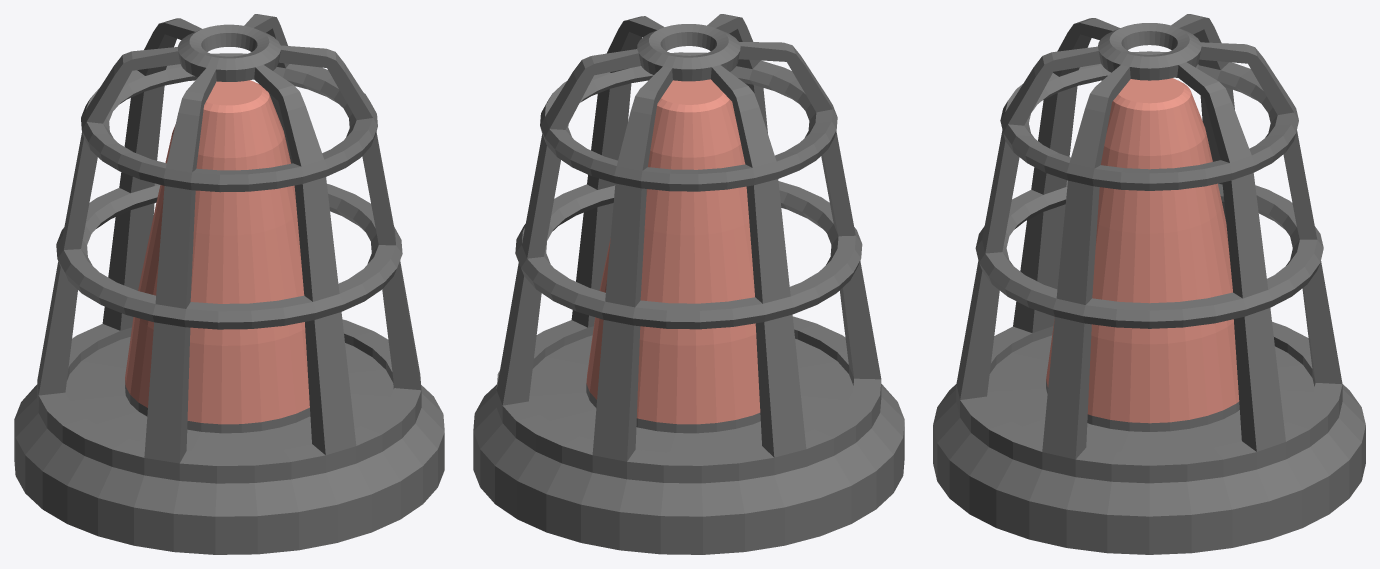
Rendered from EmergencyLightFix.fbx.
3 renders of one model, left to right at view 1: azimuth 30°, elevation 25°; view 2: azimuth 150°, elevation 25°; view 3: azimuth 270°, elevation 25°, orthographic.
Visible parts, largest first — view 1: Cylinder; view 2: Cylinder; view 3: Cylinder.
Boxes of the visible parts, <box> form: Cylinder: <box>14,14,444,554</box>; Cylinder: <box>473,14,904,554</box>; Cylinder: <box>933,14,1365,554</box>.
Bounding box in the file's own units: 47.2 × 50.97 × 47.2.
